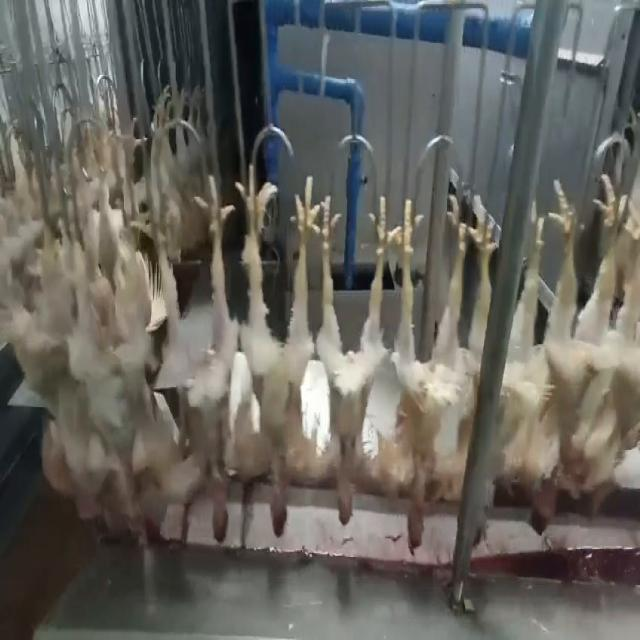chicken: (141, 166, 234, 545), (396, 189, 482, 559), (235, 167, 318, 538), (489, 176, 572, 532), (312, 172, 395, 528), (567, 173, 640, 517), (77, 188, 141, 524)
